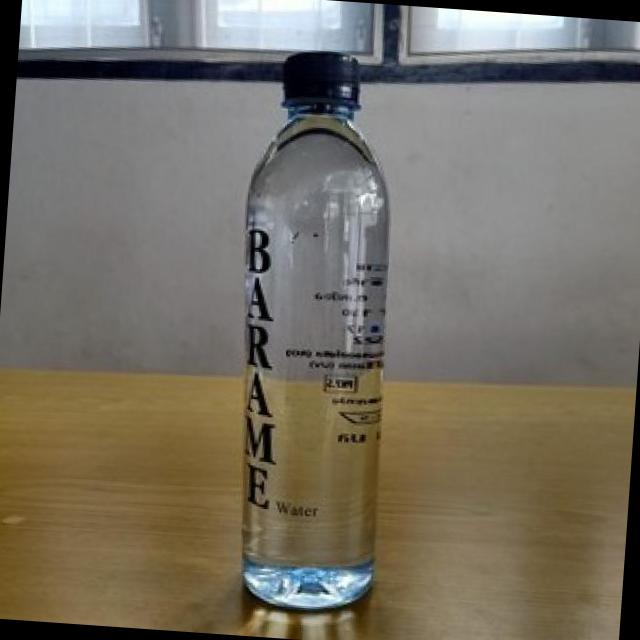plastic_bottle: (217, 46, 410, 616)
